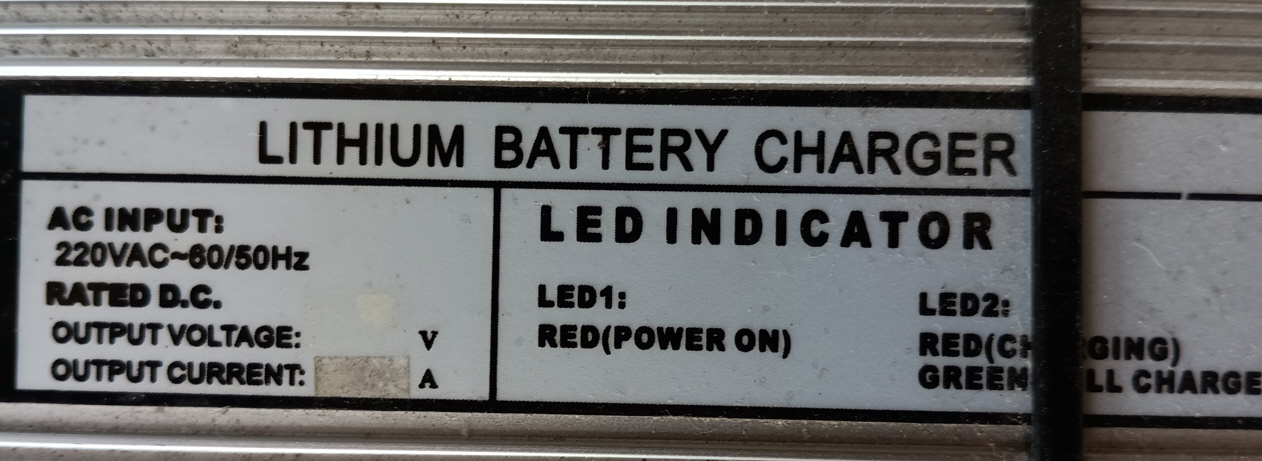p1: (45, 230, 171, 272)
p2: (182, 228, 312, 274)
p3: (240, 107, 473, 175)
